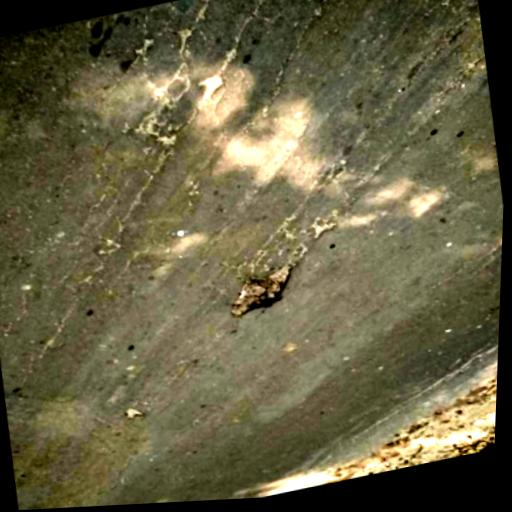pothole: (225, 261, 300, 322), (450, 412, 492, 436), (196, 72, 228, 103), (124, 404, 146, 422), (449, 447, 474, 458), (470, 433, 490, 444), (482, 439, 495, 450)
